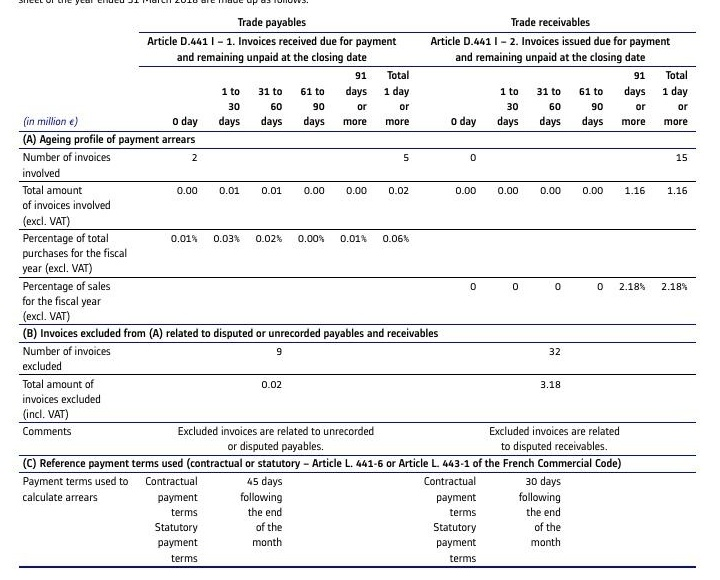table: (0, 0, 720, 580)
